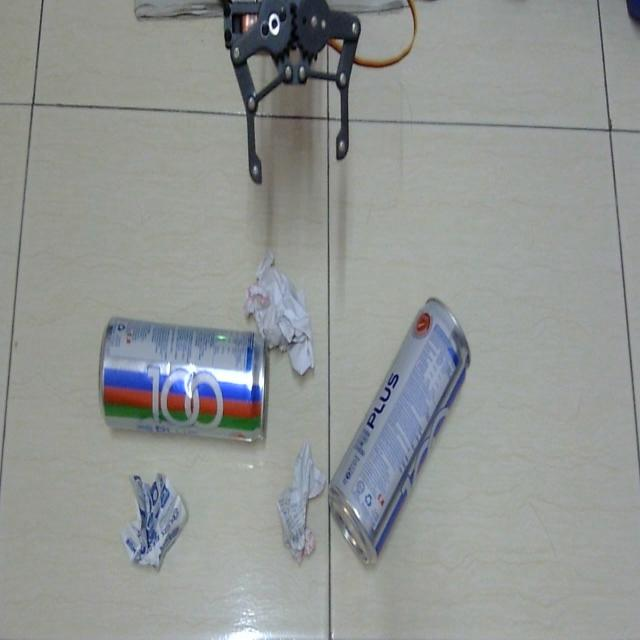Metal-laydown_45right-rotation: (329, 292, 472, 574)
Metal-laydown_90-rotation: (95, 308, 274, 451)
Paperrotation: (242, 258, 320, 378), (118, 468, 189, 570), (275, 446, 329, 560)
